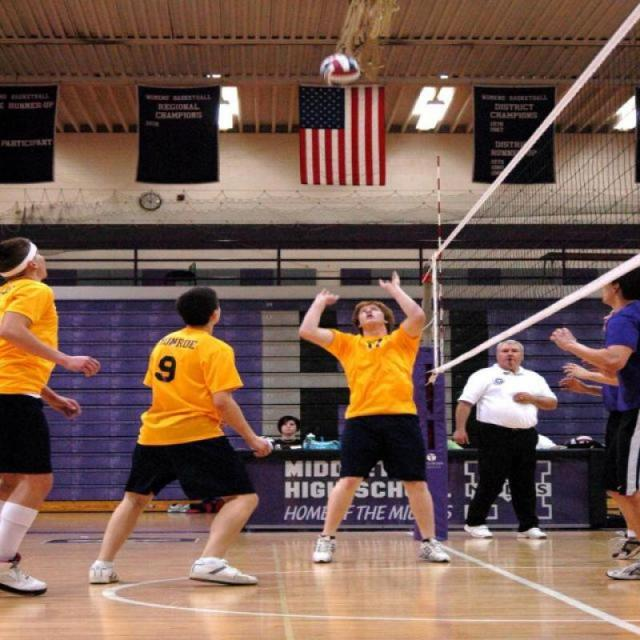volleyball: (315, 53, 368, 89)
